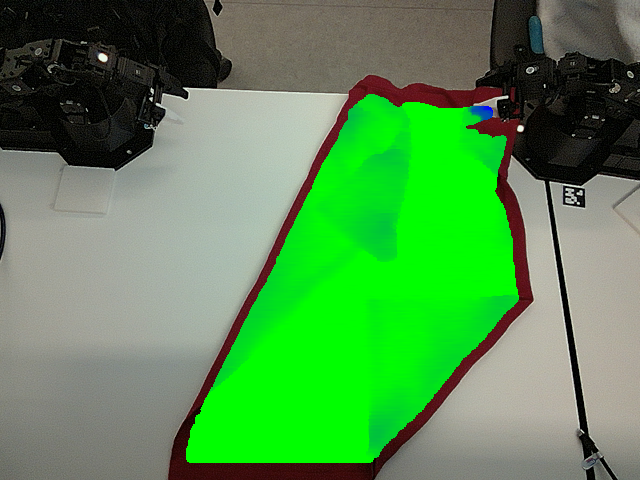V: (313, 183, 359, 221), (359, 290, 396, 327)
